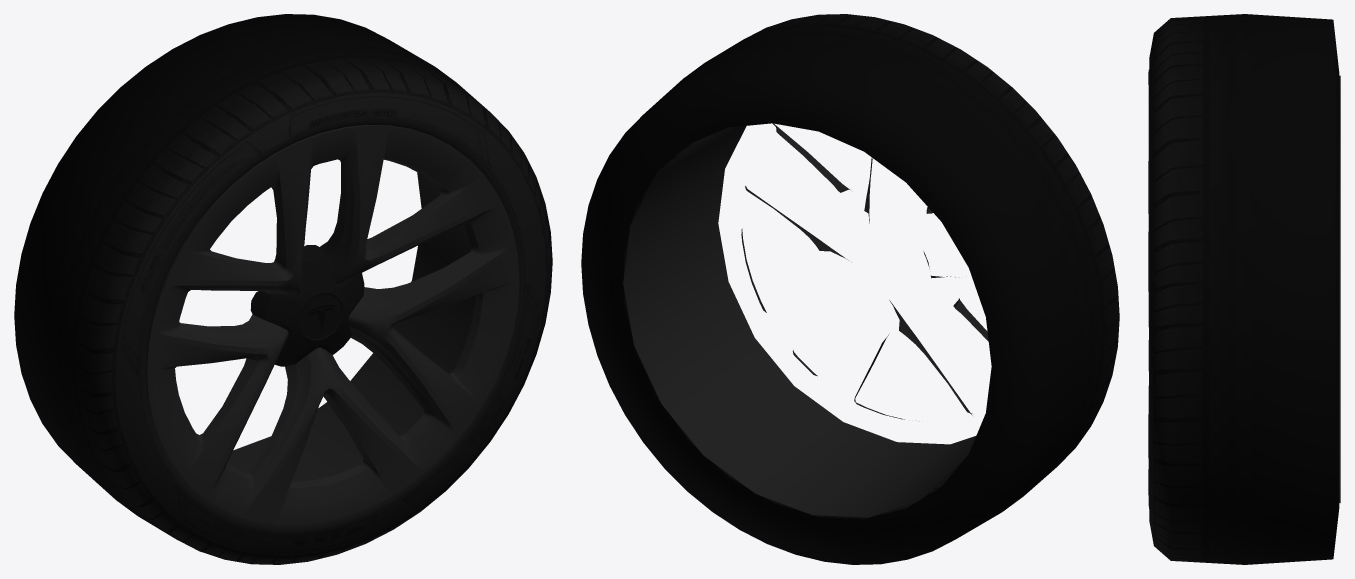
Rendered from Arachnid21.glb.
The picture shows the model from 3 angles, left to right: view 1: azimuth 30°, elevation 25°; view 2: azimuth 150°, elevation 25°; view 3: azimuth 270°, elevation 25°; orthographic projection. The views are drawn at different scales.
Parts seen in each view (by area): view 1: Wheel_Arachnid22; view 2: Wheel_Arachnid22; view 3: Wheel_Arachnid22.
Part boxes in pixels (x1,y1,x2,y2): Wheel_Arachnid22: [14, 14, 552, 564]; Wheel_Arachnid22: [581, 14, 1119, 564]; Wheel_Arachnid22: [1148, 14, 1340, 564].
Size of the model in its own units: 0.7408 by 0.7394 by 0.2587.
Materials: 2 (2 with a texture image).
